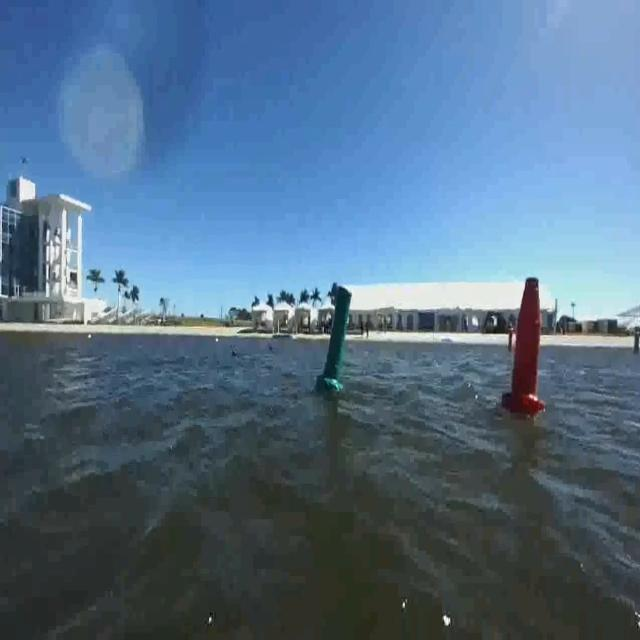green-column-buoy: (319, 286, 353, 392)
red-column-buoy: (504, 274, 549, 418)
